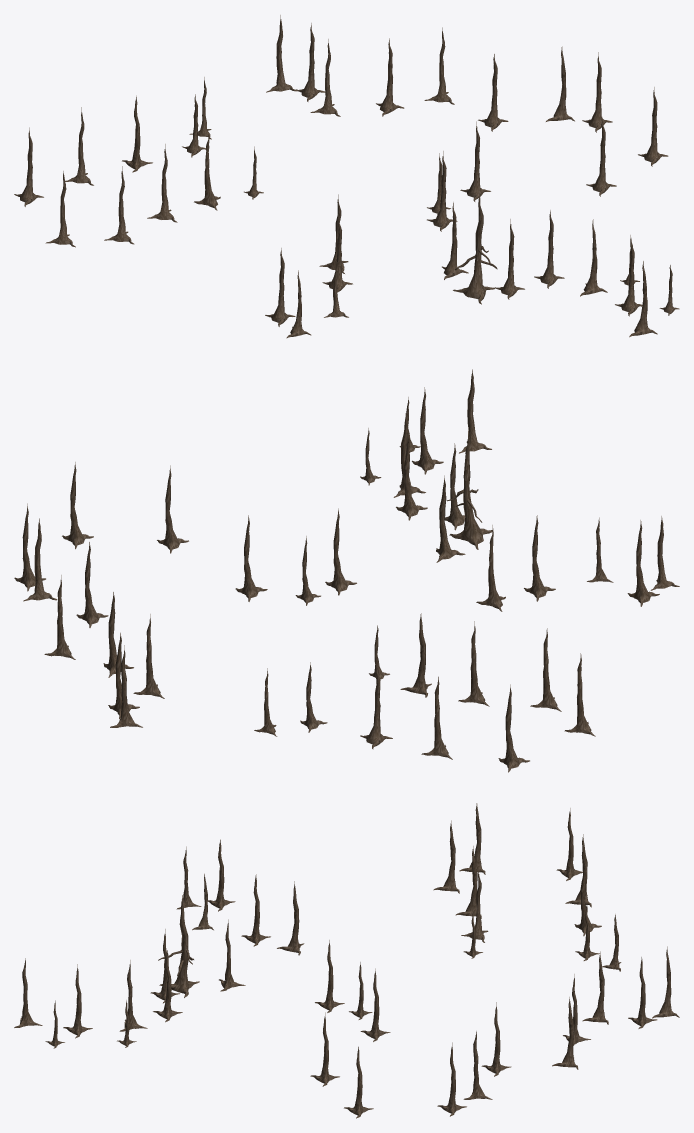
Rendered from songshugan_04.FBX.
The picture shows the model from 3 angles, top to bottom: view 1: azimuth 30°, elevation 25°; view 2: azimuth 150°, elevation 25°; view 3: azimuth 270°, elevation 25°; orthographic projection. The views are drawn at different scales.
Parts seen in each view (by area): view 1: Object020; view 2: Object020; view 3: Object020.
Boxes of the visible parts, bbox=[...] form: Object020: bbox=[14, 15, 679, 338]; Object020: bbox=[14, 369, 679, 772]; Object020: bbox=[14, 803, 679, 1118].
Size of the model in its own units: 12538 by 2219 by 13797.
